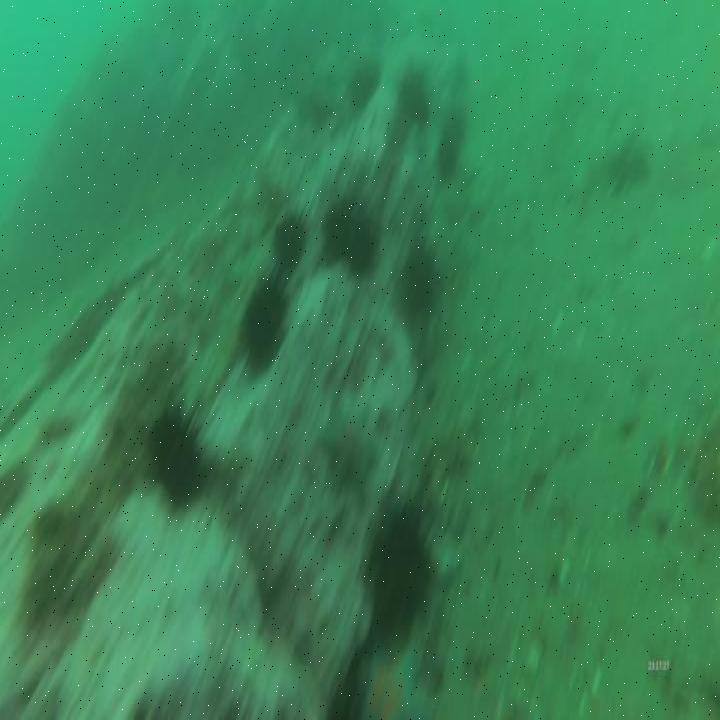echinus: (357, 485, 439, 633), (141, 398, 211, 507), (234, 265, 295, 368), (399, 229, 440, 327), (346, 203, 386, 295), (270, 203, 311, 272), (402, 59, 433, 130), (347, 52, 380, 116), (320, 199, 350, 265), (435, 130, 460, 190)
starfish: (351, 622, 423, 715)
